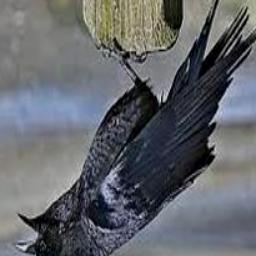Crow: (12, 0, 256, 256)
